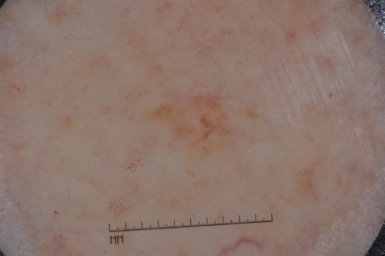nevus: (155, 94, 230, 144)
